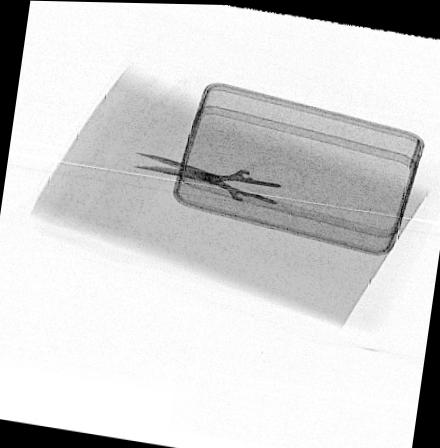Scissors: (124, 146, 309, 228)
